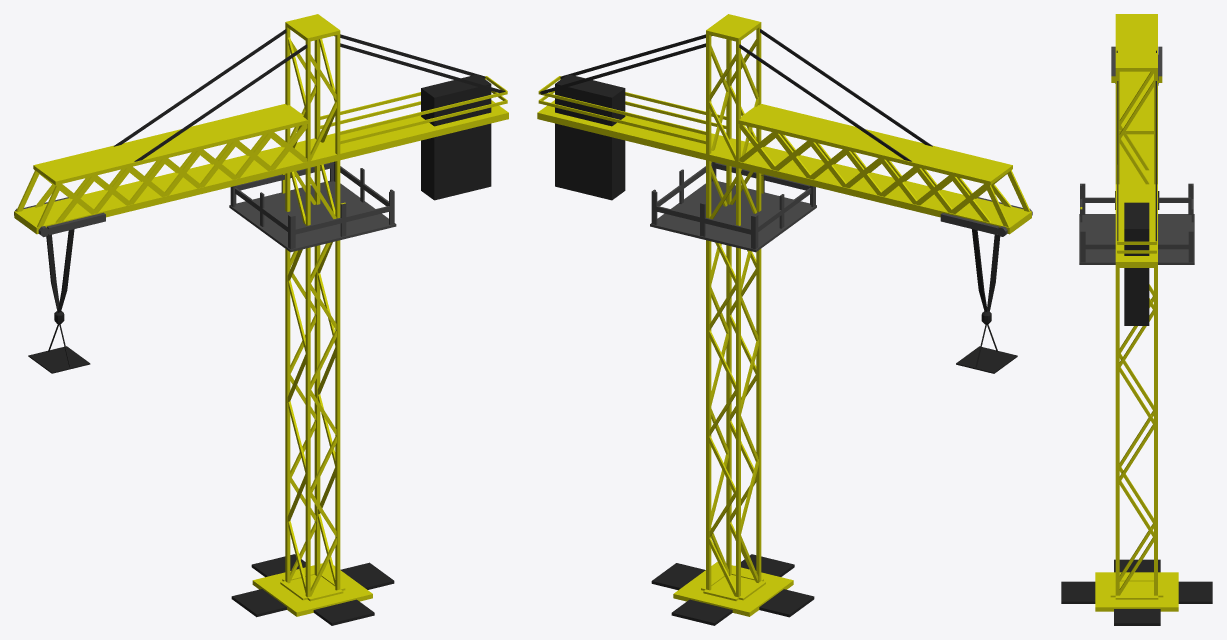
The model's file is Crane.fbx.
3 views of the same model, side by side, from view 1: azimuth 30°, elevation 25°; view 2: azimuth 150°, elevation 25°; view 3: azimuth 270°, elevation 25° (orthographic). The views are drawn at different scales.
Visible parts, largest first — view 1: polySurface89; view 2: polySurface89; view 3: polySurface89.
Boxes of the visible parts, x1,y1,x2,y2 form: polySurface89: [14, 14, 508, 625]; polySurface89: [537, 14, 1032, 625]; polySurface89: [1061, 14, 1212, 625].
Size of the model in its own units: 3500 by 4003 by 1028.
